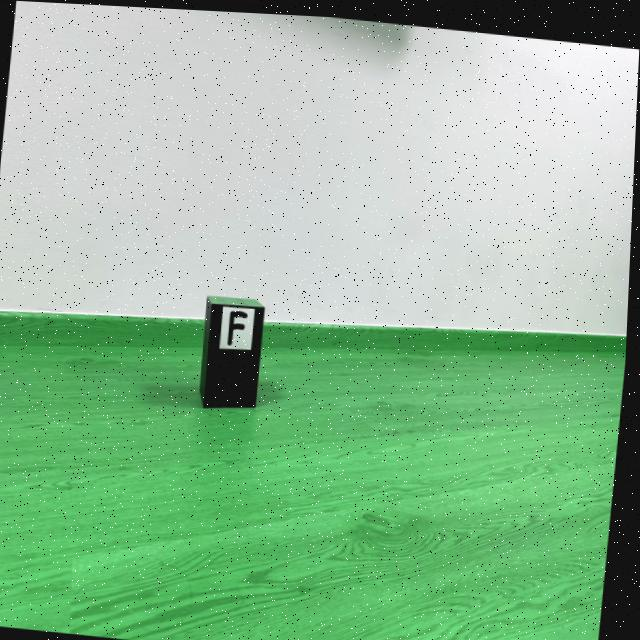F: (230, 308, 250, 343)
